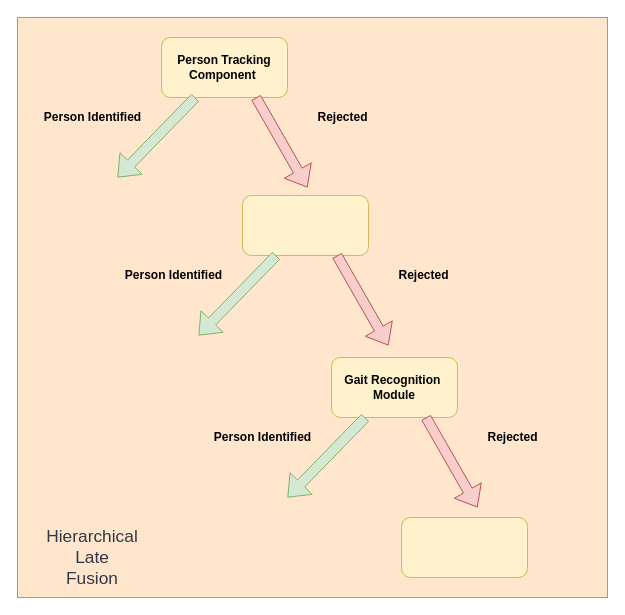
Some shapes in this 625 by 615 pixel diagram are drawn without their labels. The shapes that lost their labels are listed below. From the top down, each one's centre as x and y in pixels, then its label:
At (305,225): "Face Recognition Component".
At (464,547): "Store as Unknown Person".
